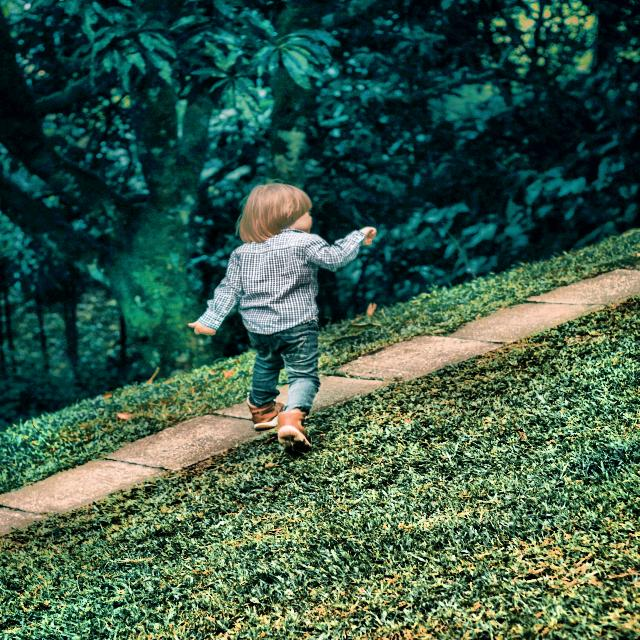Human: (193, 177, 378, 452)
